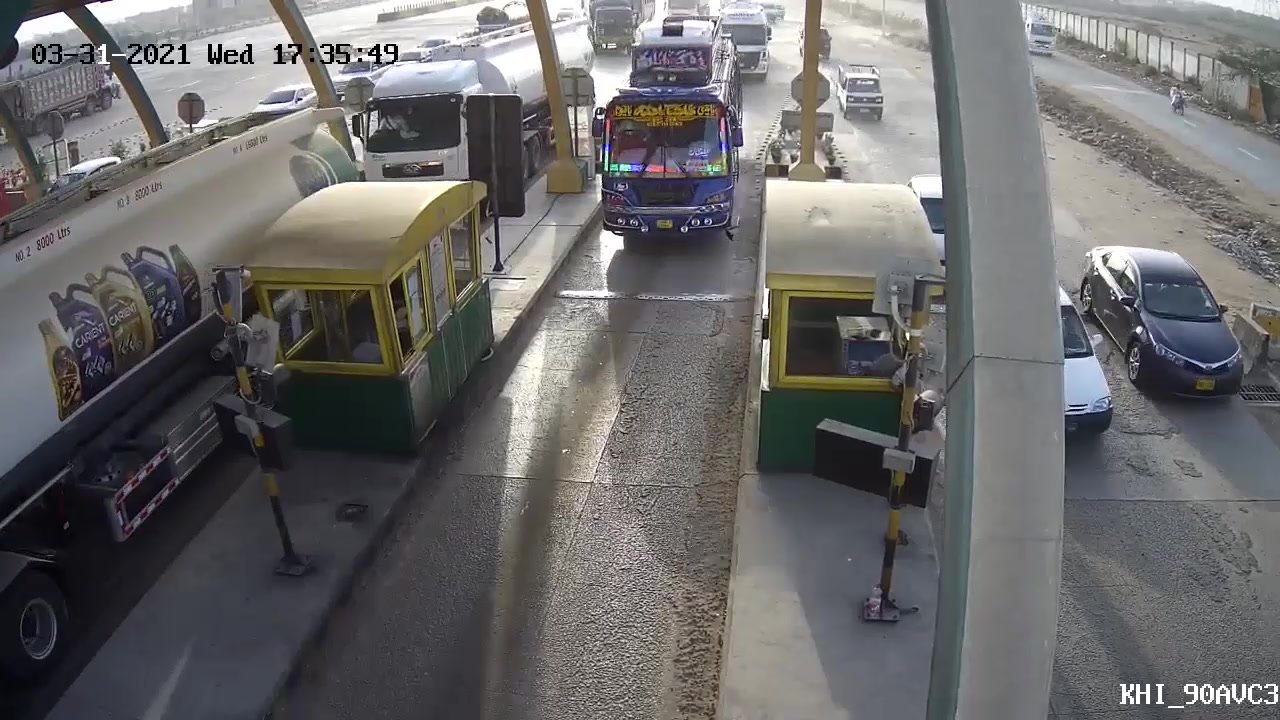F4: (582, 18, 748, 253)
